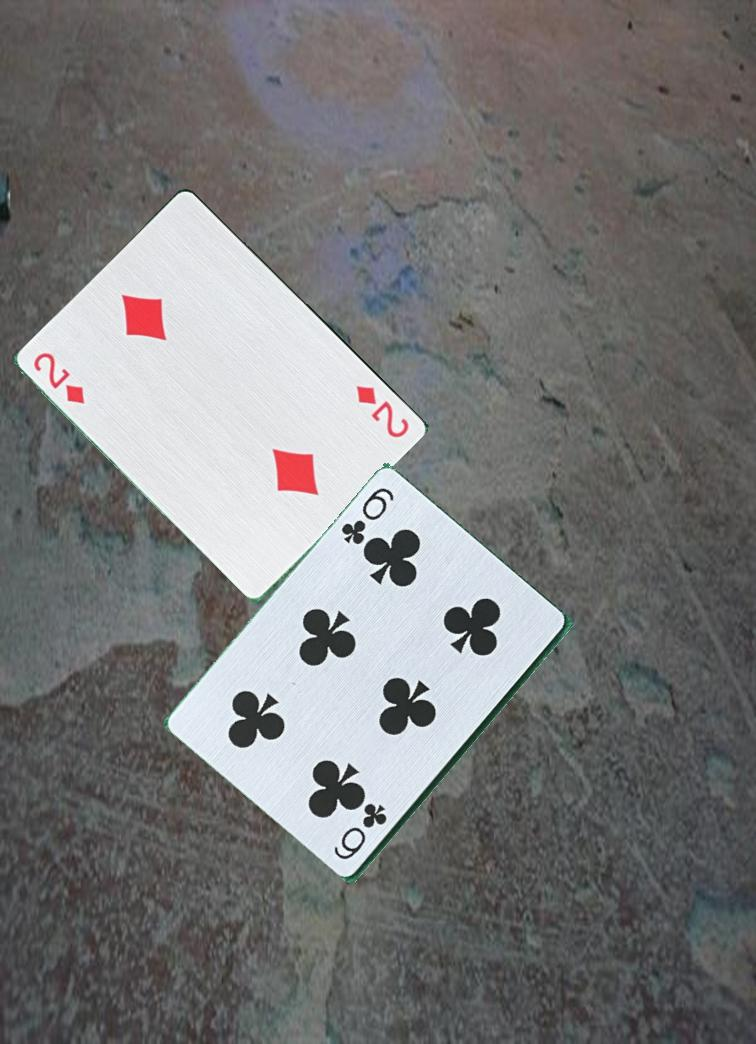2d: (22, 340, 88, 407), (351, 381, 412, 441)
6c: (337, 484, 408, 556), (331, 801, 390, 864)
